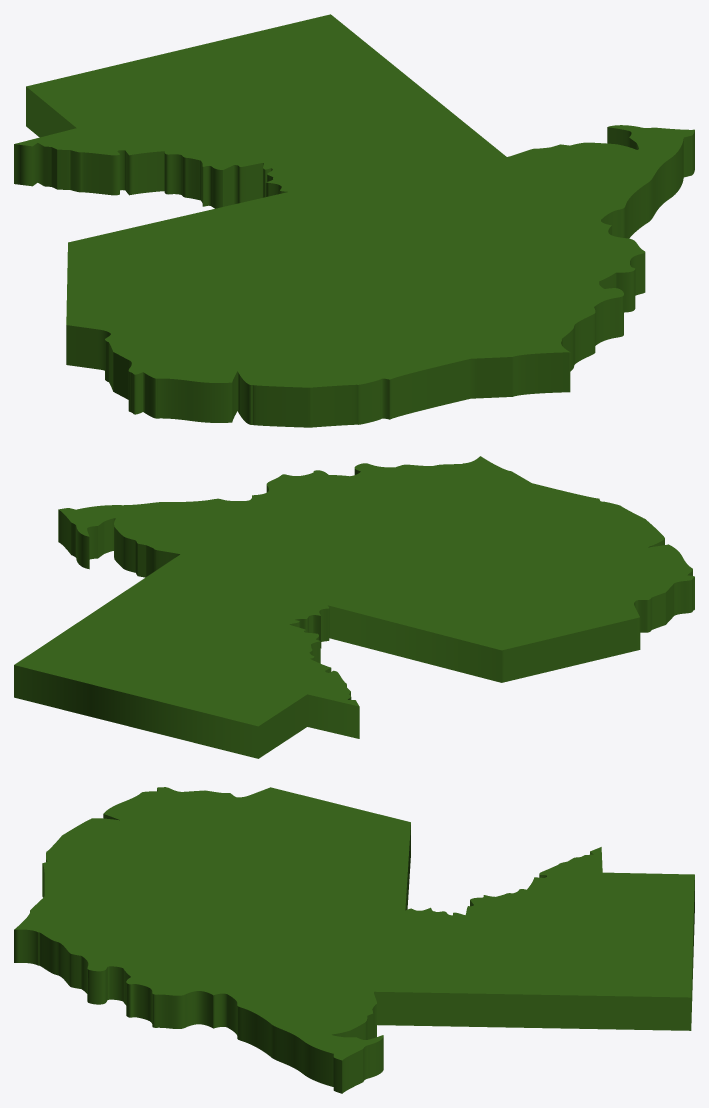
File: GuatemalaMap.fbx
3 renders of one model, top to bottom at view 1: azimuth 30°, elevation 25°; view 2: azimuth 150°, elevation 25°; view 3: azimuth 270°, elevation 25°, orthographic. The views are drawn at different scales.
Parts seen in each view (by area): view 1: Curve; view 2: Curve; view 3: Curve.
Boxes of the visible parts, x1=… form: Curve: x1=14, y1=14, x2=694, y2=427; Curve: x1=14, y1=456, x2=694, y2=758; Curve: x1=14, y1=787, x2=694, y2=1093.
Size of the model in its own units: 22.66 by 1.29 by 23.85.
